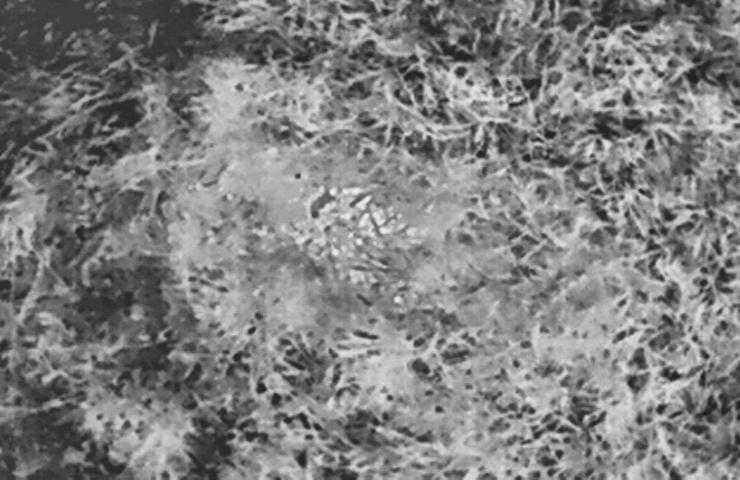landmines: (284, 175, 418, 289)
